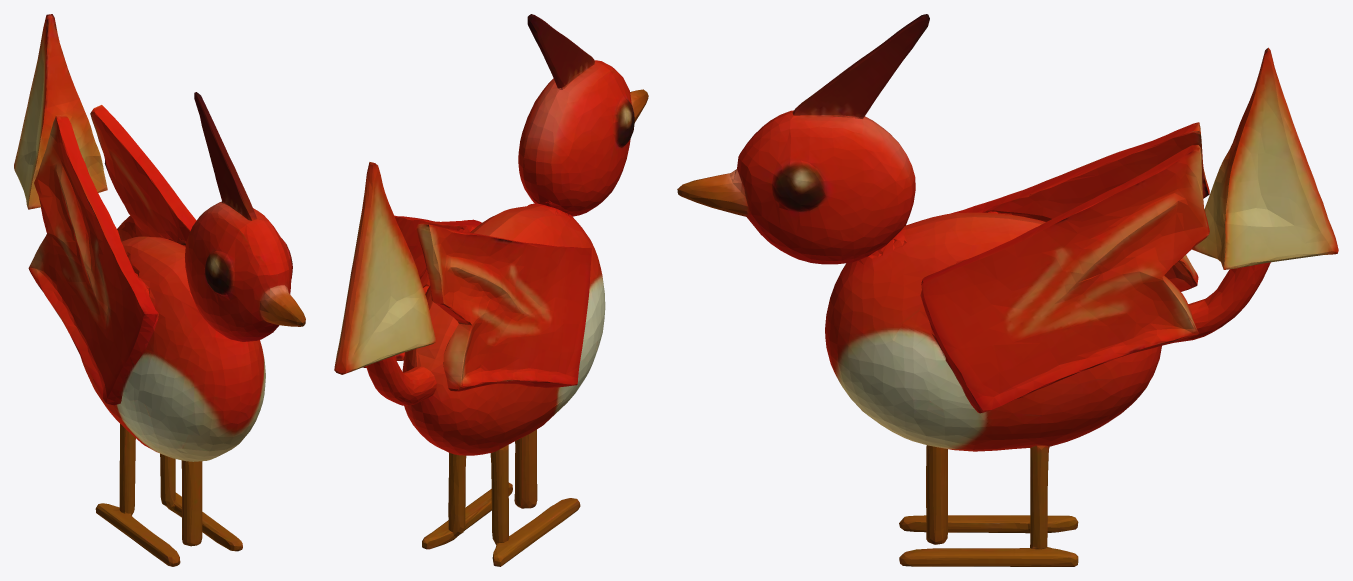
File: 013-pyrofinch.glb
3 views of the same model, side by side, from view 1: azimuth 30°, elevation 25°; view 2: azimuth 150°, elevation 25°; view 3: azimuth 270°, elevation 25° (orthographic). The views are drawn at different scales.
Visible parts, largest first — view 1: geometry_0; view 2: geometry_0; view 3: geometry_0.
Boxes of the visible parts, <box> form: geometry_0: <box>14,14,305,566</box>; geometry_0: <box>334,14,648,566</box>; geometry_0: <box>677,14,1338,566</box>.
Bounding box in the file's own units: 0.2725 × 0.8889 × 0.999.
1 material, 1 textured.
